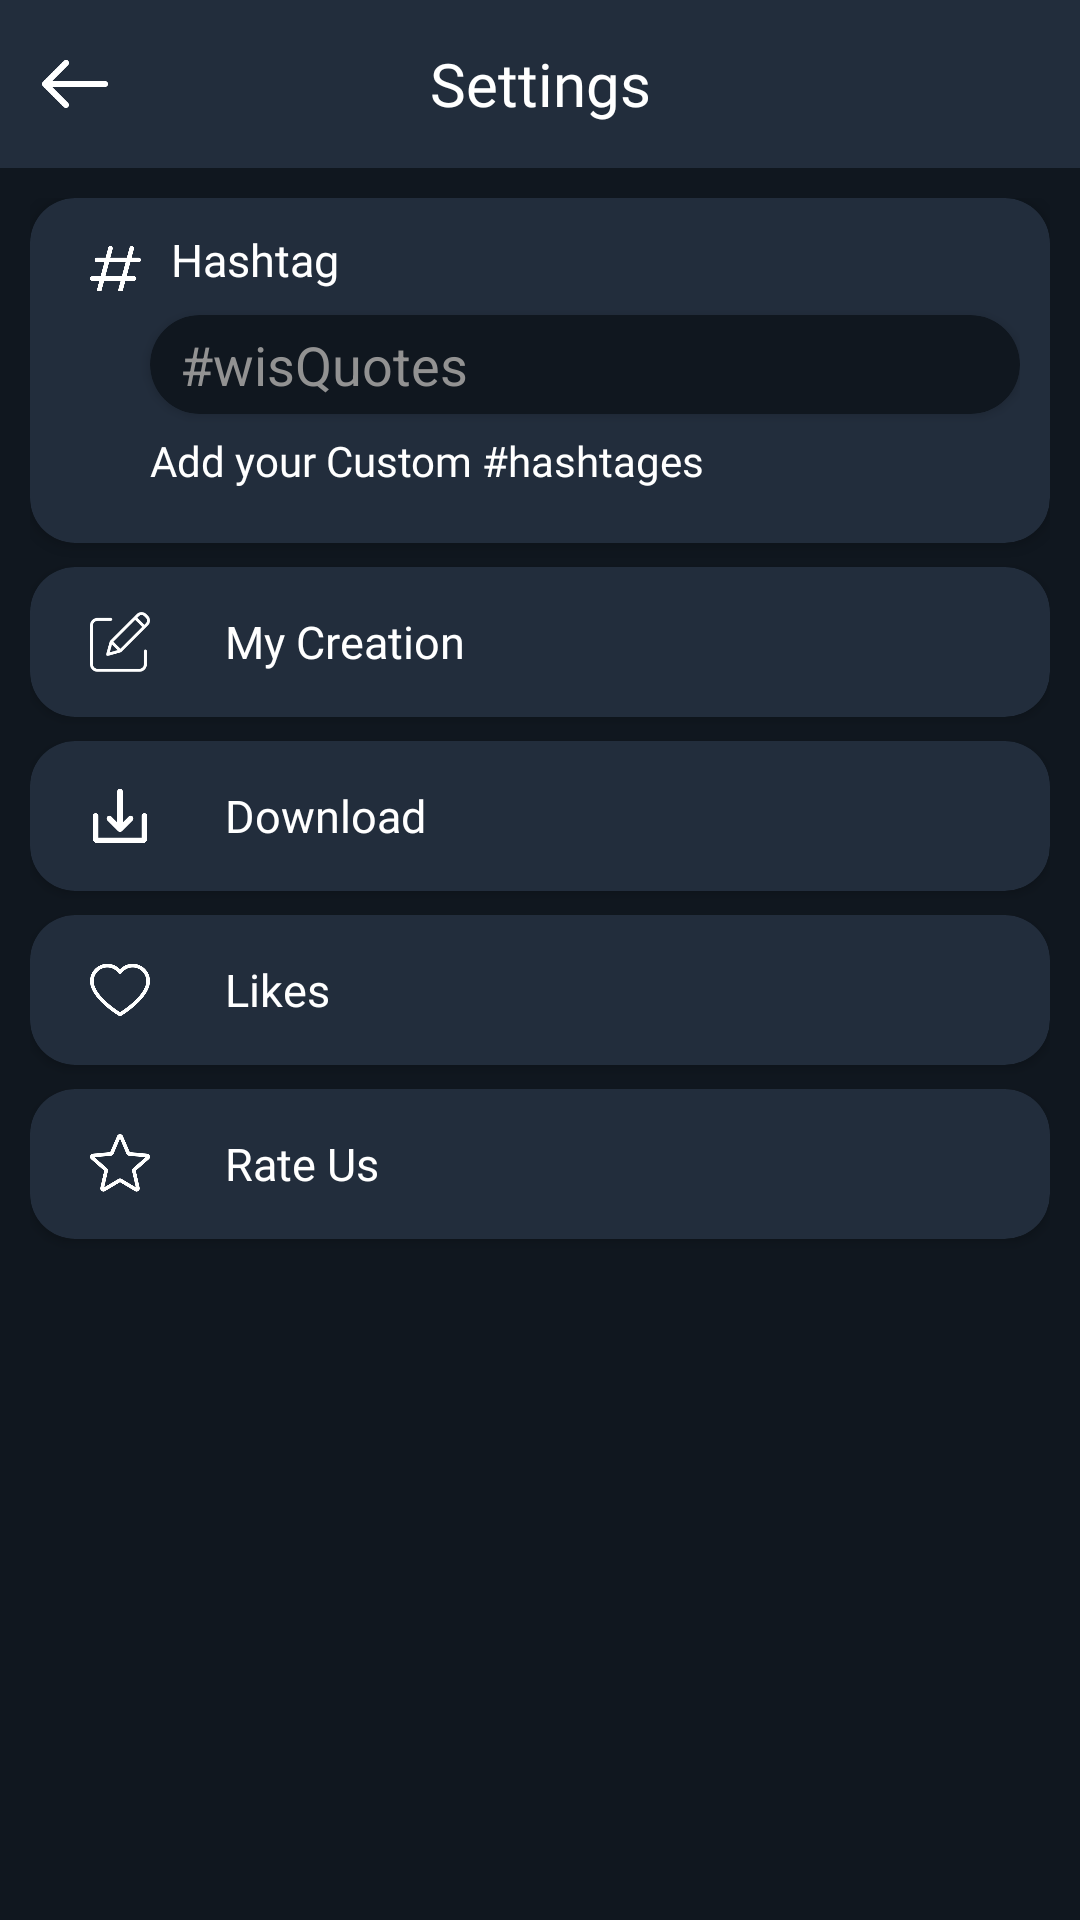

Named icons in this screenshot (1080w x 1920h) and their centers, point (x, y):
back: point (75, 84)
save: point (120, 816)
star: point (120, 1163)
